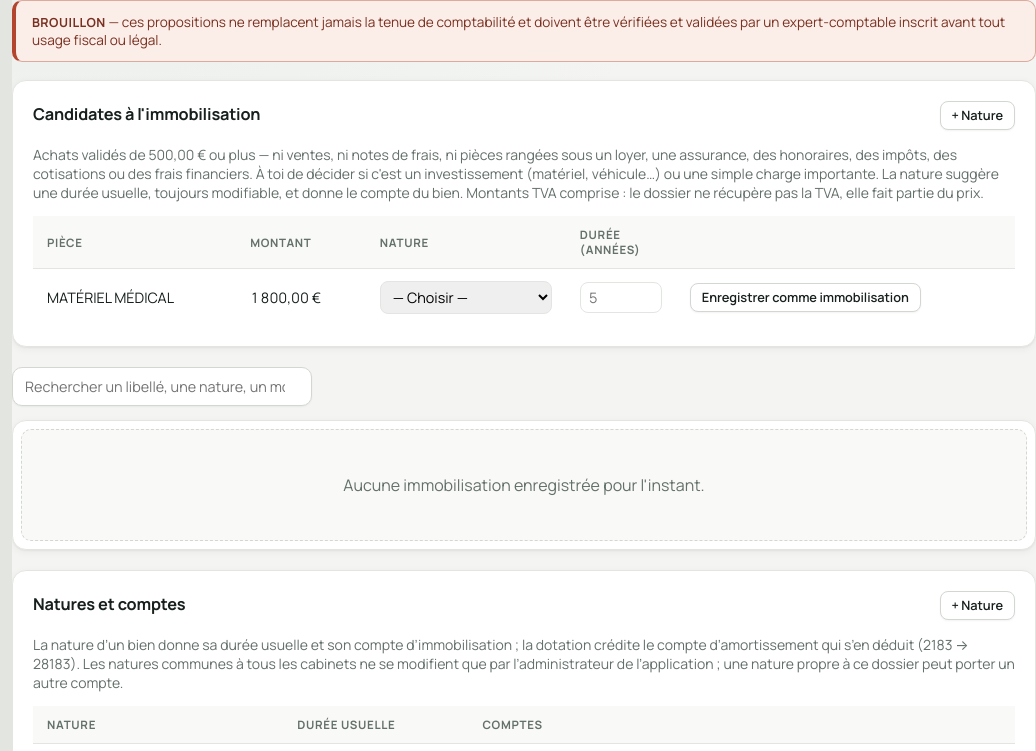
it: ImmobilisationsTab — enregistrer une candidate › refuse une durée « 2.5 », sans rien inscrire
Step 1. Select "Fauteuil de soins" in the dropdown named "Nature de MATÉRIEL MÉDICAL" → (466, 298), box top-left (380, 281), bottom-right (552, 314)
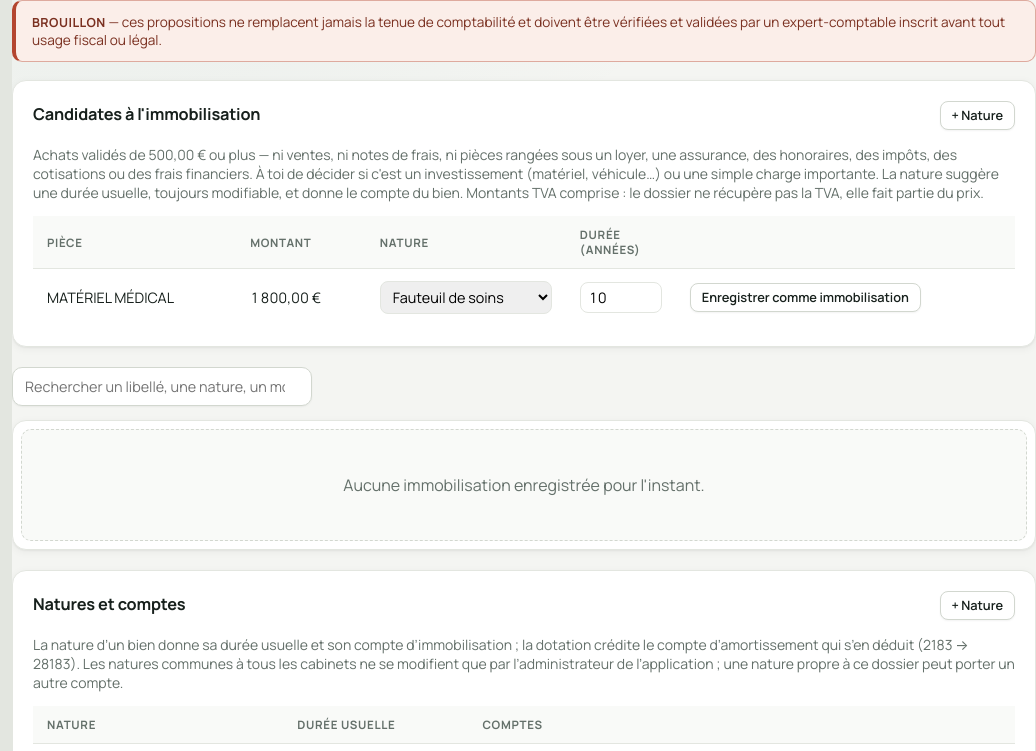
Step 2. Replace the text in the number field named "Durée de MATÉRIEL MÉDICAL" with "2.5" → (621, 298), box top-left (580, 282), bottom-right (662, 313)
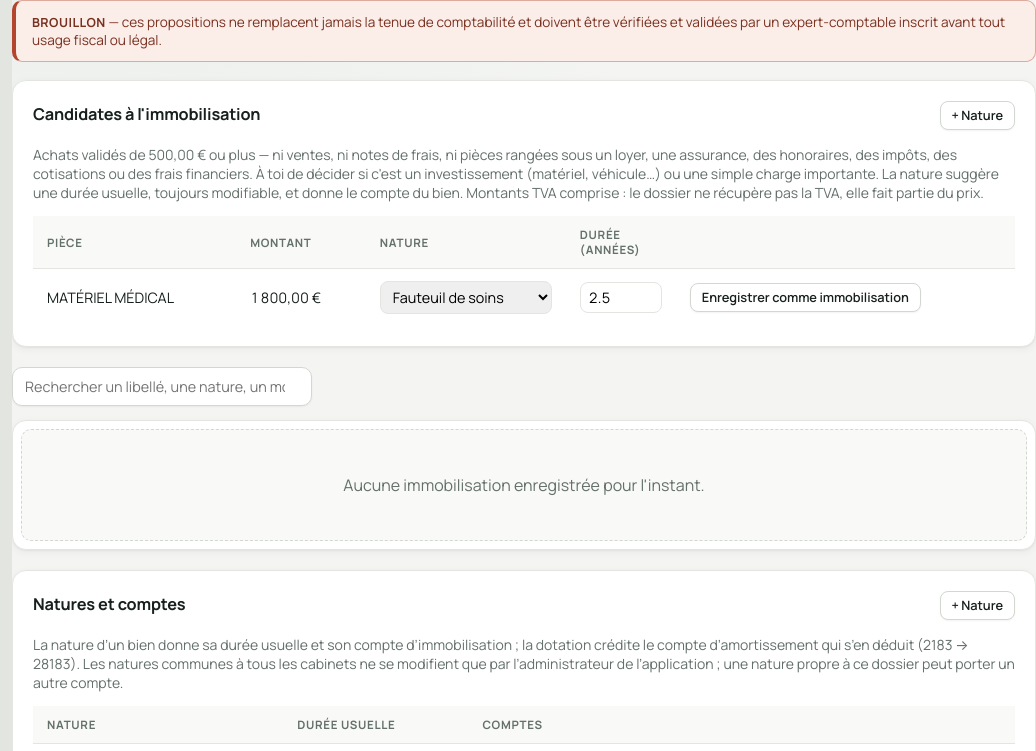
Step 3. Click the button "Enregistrer comme immobilisation" → click(805, 297), box top-left (690, 283), bottom-right (921, 312)
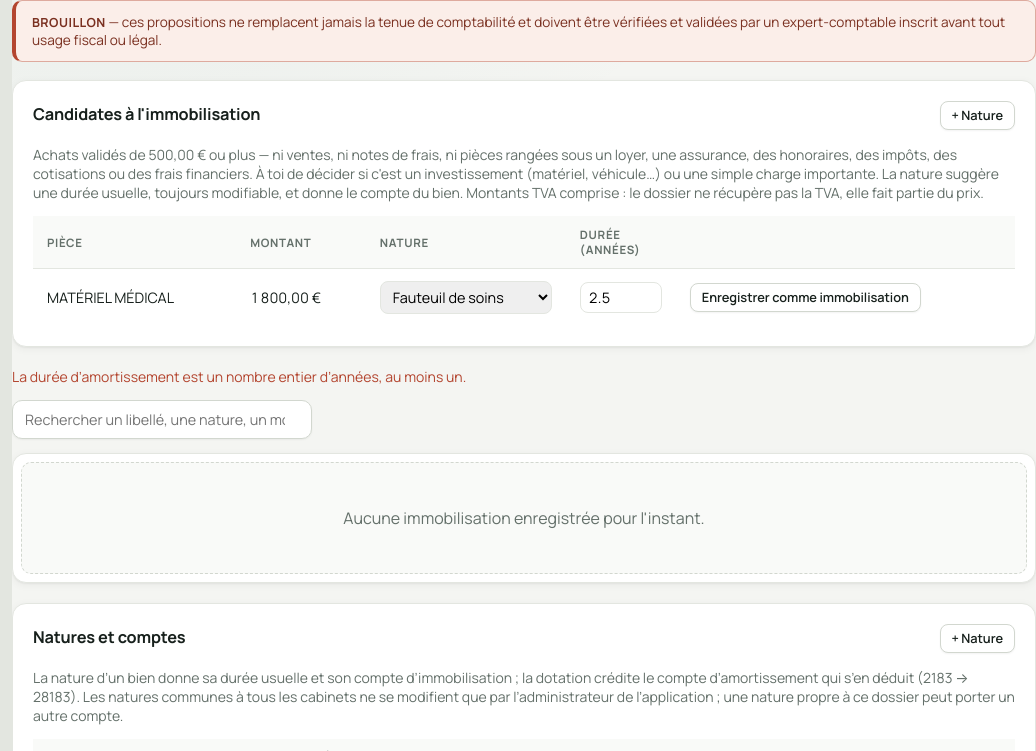
Expected: the text "La durée d’amortissement est un nombre entier d’années, au moins un." is shown, top-left (12, 367), bottom-right (466, 386)
